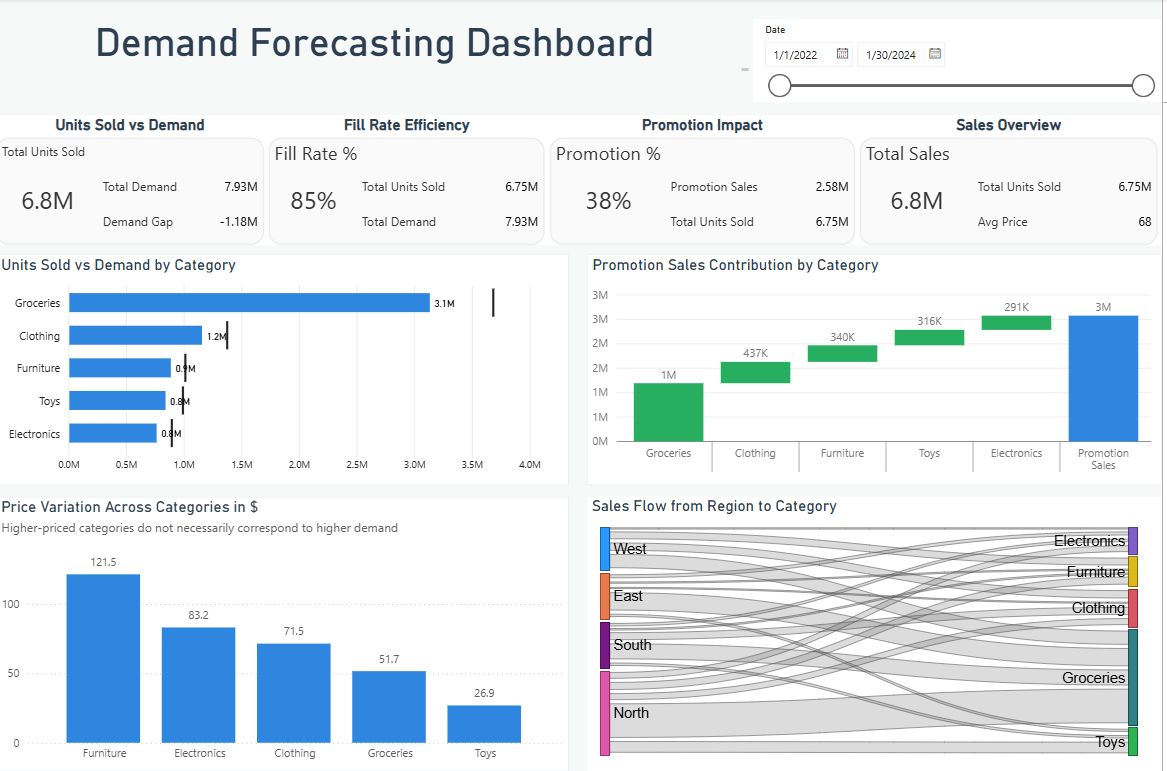

What the dashboard file says about the page in this screenshot:
{"tool":"powerbi","page":{"name":"Page 1","canvas":[1280,850],"ordinal":0},"visuals":[{"type":"group","id":"g1","title":"Group 2","box":[0,129.6,1280.3,720.4],"z":0},{"type":"Multi_target_KPI","title":"Units Sold vs Demand","fields":{"Main Measure":["demand_forecasting.Total Units Sold"],"additional":["demand_forecasting.Total Demand","demand_forecasting.Demand Gap"]},"box":[0,129.6,299.1,142.7],"z":0,"group":"g1"},{"type":"textbox","title":"Demand Forecasting Dashboard","box":[0,23.3,831.6,61.7],"z":1000},{"type":"Multi_target_KPI","title":"Fill Rate Efficiency","fields":{"Main Measure":["demand_forecasting.Fill Rate %"],"additional":["demand_forecasting.Total Units Sold","demand_forecasting.Total Demand"]},"box":[299.1,129.6,308.7,142.7],"z":1000,"group":"g1"},{"type":"slicer","fields":{"Values":["demand_forecasting.Date"]},"box":[831.6,23.3,448.7,90.6],"z":2000},{"type":"Multi_target_KPI","title":"Promotion Impact","fields":{"additional":["demand_forecasting.Promotion Sales","demand_forecasting.Total Units Sold"],"Main Measure":["demand_forecasting.Promotion %"]},"box":[607.9,129.6,340.3,142.7],"z":2000,"group":"g1"},{"type":"Multi_target_KPI","title":"Sales Overview","fields":{"Main Measure":["demand_forecasting.Total Sales"],"additional":["demand_forecasting.Total Units Sold","demand_forecasting.Avg Price"]},"box":[947.9,129.6,332.1,142.7],"z":3000,"group":"g1"},{"type":"PBI_CV_9272D058_BEA0_476A_B090_A712545F92FA","title":"Units Sold vs Demand by Category","fields":{"Value":["demand_forecasting.Total Units Sold"],"targets":["demand_forecasting.Total Demand"],"Category":["demand_forecasting.Category"]},"box":[0,281.9,628.5,253.9],"z":4000,"group":"g2"},{"type":"SimpleWaterfall","title":"Promotion Sales Contribution by Category","fields":{"category":["demand_forecasting.Category"],"measure":["demand_forecasting.Promotion Sales"]},"box":[649.1,281.9,631.2,253.9],"z":5000,"group":"g1"},{"type":"columnChart","title":"Price Variation Across Categories in $","fields":{"Category":["demand_forecasting.Category"],"Y":["demand_forecasting.Avg Price"]},"box":[0,548.1,628.5,301.9],"z":6000,"group":"g2"},{"type":"sankey02300D1BE6F5427989F3DE31CCA9E0F32020","title":"Sales Flow from Region to Category","fields":{"Source":["demand_forecasting.Region"],"Destination":["demand_forecasting.Category"],"Weight":["demand_forecasting.Total Units Sold"]},"box":[649.1,548.1,631.2,301.9],"z":7000,"group":"g2"},{"type":"group","id":"g2","title":"Group 1","box":[0,281.9,1280.3,568.1],"z":7001,"group":"g1"}]}

Visuals, with their boxes in screenshot pixels (x1, y1, x2, y2), scaled from the page's 1280x850 canvas onto the 1167x771 screenshot:
"Group 2" group: 0:118:1166:770
"Units Sold vs Demand" Multi_target_KPI: 0:118:273:247
"Demand Forecasting Dashboard" textbox: 0:21:758:77
"Fill Rate Efficiency" Multi_target_KPI: 273:118:554:247
slicer - demand_forecasting.Date: 758:21:1166:103
"Promotion Impact" Multi_target_KPI: 554:118:864:247
"Sales Overview" Multi_target_KPI: 864:118:1166:247
"Units Sold vs Demand by Category" PBI_CV_9272D058_BEA0_476A_B090_A712545F92FA: 0:256:573:486
"Promotion Sales Contribution by Category" SimpleWaterfall: 592:256:1166:486
"Price Variation Across Categories in $" columnChart: 0:497:573:770
"Sales Flow from Region to Category" sankey02300D1BE6F5427989F3DE31CCA9E0F32020: 592:497:1166:770
"Group 1" group: 0:256:1166:770
